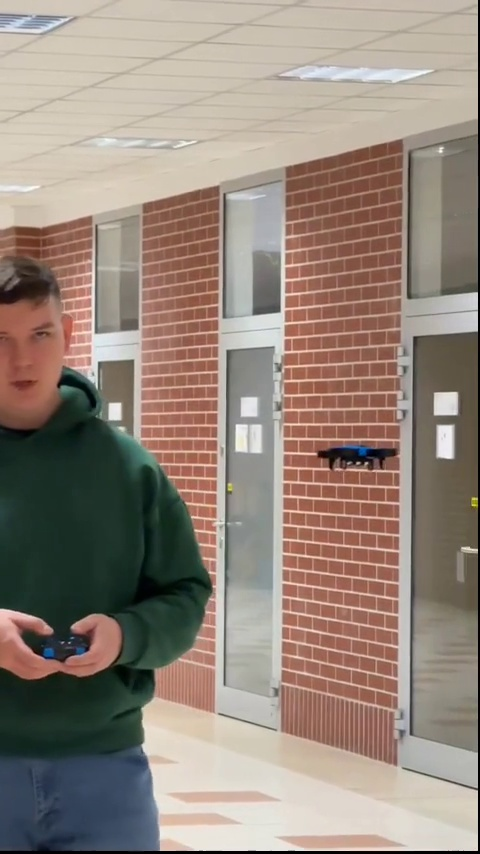drone: (311, 442, 397, 468)
no vest: (0, 249, 218, 848)
